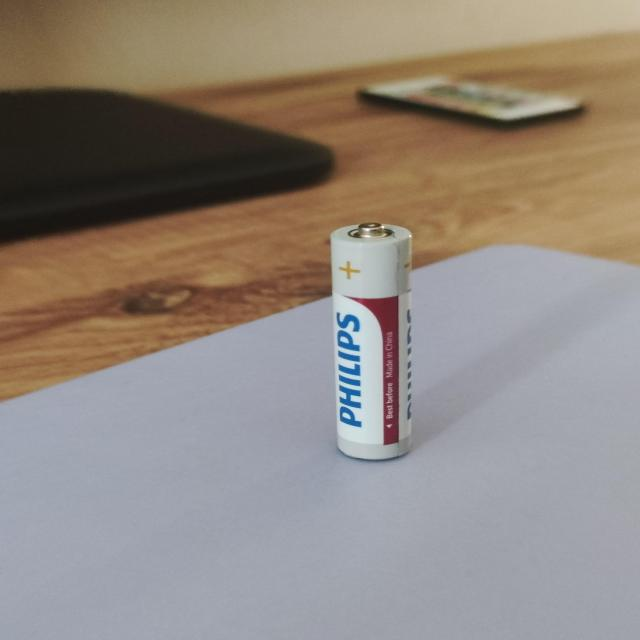AAA: (329, 221, 414, 461)
